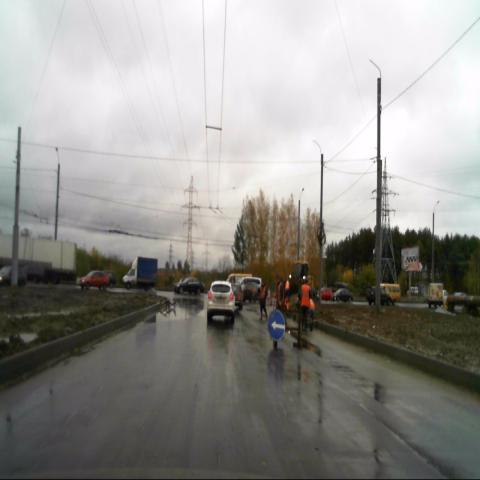4_1_2_2: (268, 309, 286, 342)
